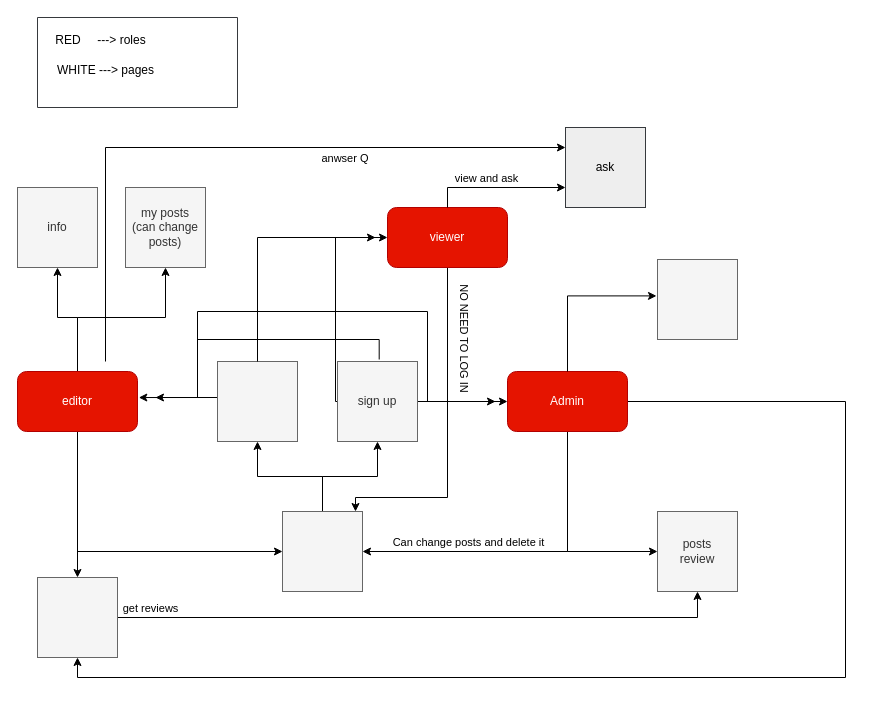
Image size: 871x703. Some labels were removed from this diagram. The centre of each missing label's shape, as x and y in pixels:
"add post" belongs at point 77,617.
"Homem page" belongs at point 322,551.
"sign in" belongs at point 257,401.
"users review" belongs at point 697,299.
